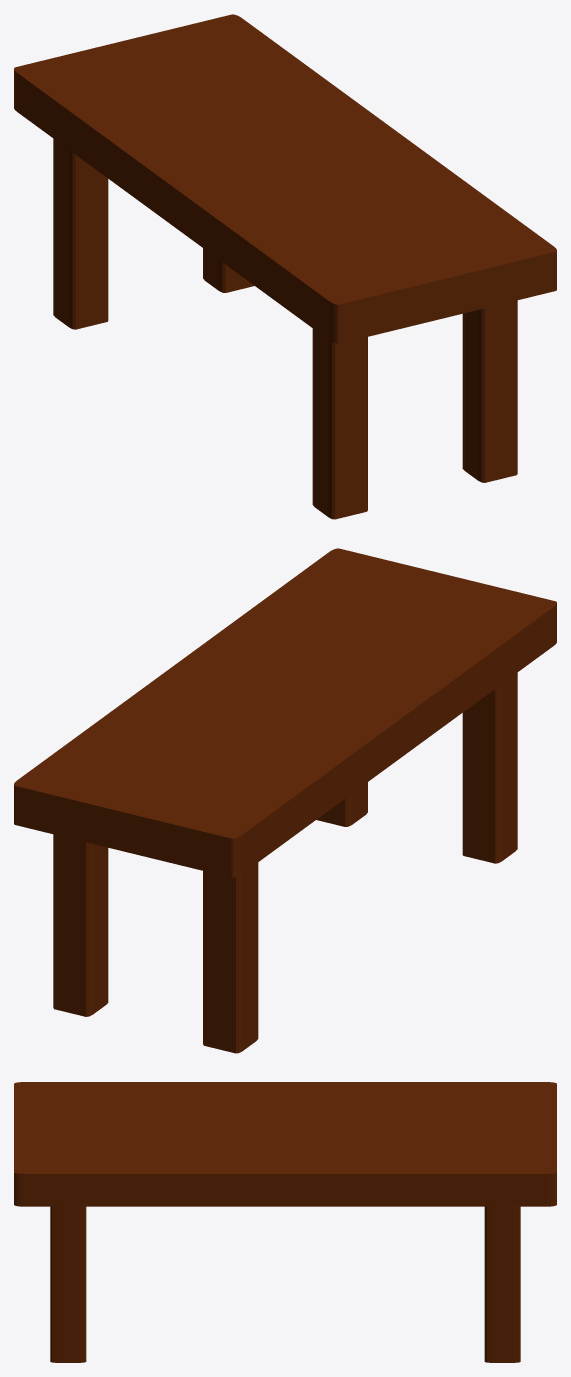
Rendered from Table.dae.
3 renders of one model, top to bottom at view 1: azimuth 30°, elevation 25°; view 2: azimuth 150°, elevation 25°; view 3: azimuth 270°, elevation 25°, orthographic. The views are drawn at different scales.
Visible parts, largest first — view 1: Cube; view 2: Cube; view 3: Cube.
Part boxes in pixels (left/top/right/bottom): Cube: left=14, top=14, right=556, bottom=519; Cube: left=14, top=548, right=556, bottom=1053; Cube: left=14, top=1082, right=556, bottom=1362.
Size of the model in its own units: 0.6 by 1.5 by 0.5997.
